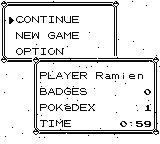seleccionado: (8, 12, 83, 27)
texto: (32, 57, 159, 135), (0, 0, 119, 64)
